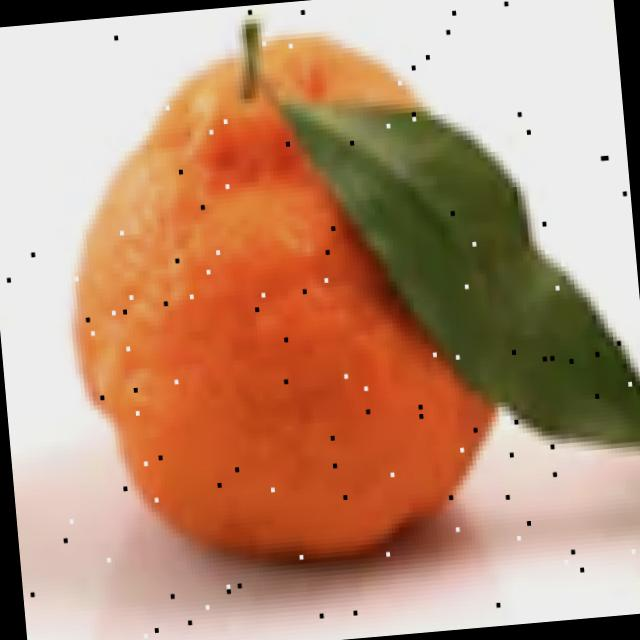orange: (52, 0, 541, 586)
